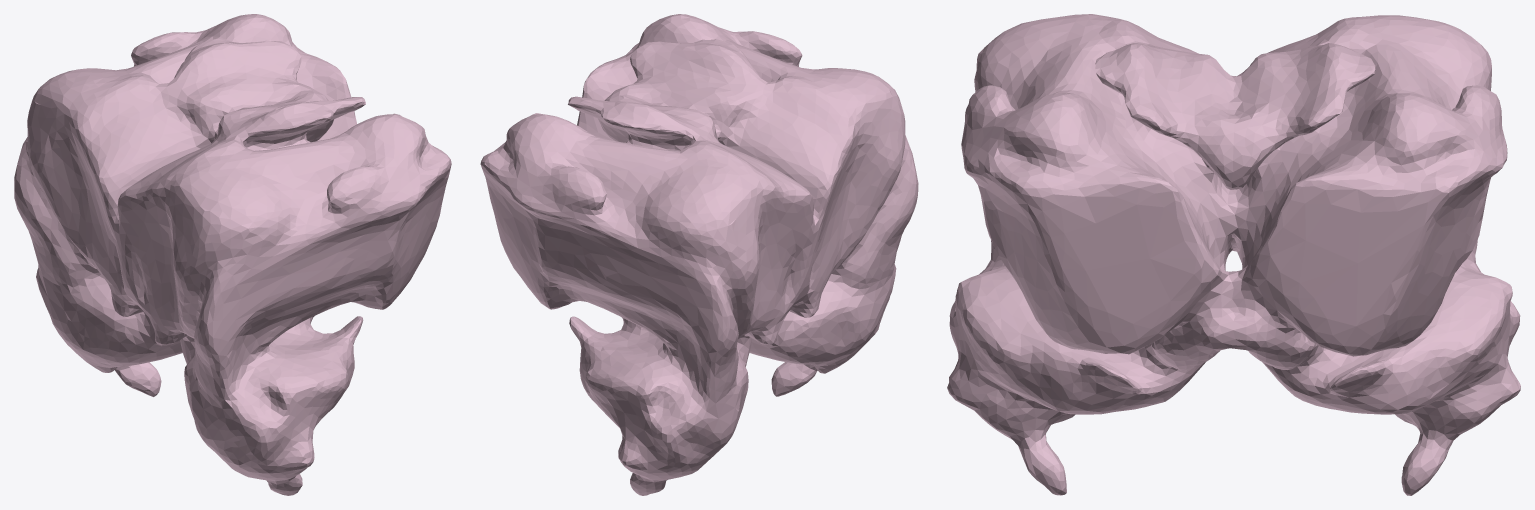
3 renders of one model, left to right at view 1: azimuth 30°, elevation 25°; view 2: azimuth 150°, elevation 25°; view 3: azimuth 270°, elevation 25°, orthographic. The views are drawn at different scales.
Parts seen in each view (by area): view 1: 370.obj; view 2: 370.obj; view 3: 370.obj.
Boxes of the visible parts, x1=… form: 370.obj: x1=14, y1=14, x2=451, y2=495; 370.obj: x1=480, y1=14, x2=918, y2=495; 370.obj: x1=947, y1=14, x2=1520, y2=495.
Bounding box in the file's own units: 2847 × 3697 × 4129.
